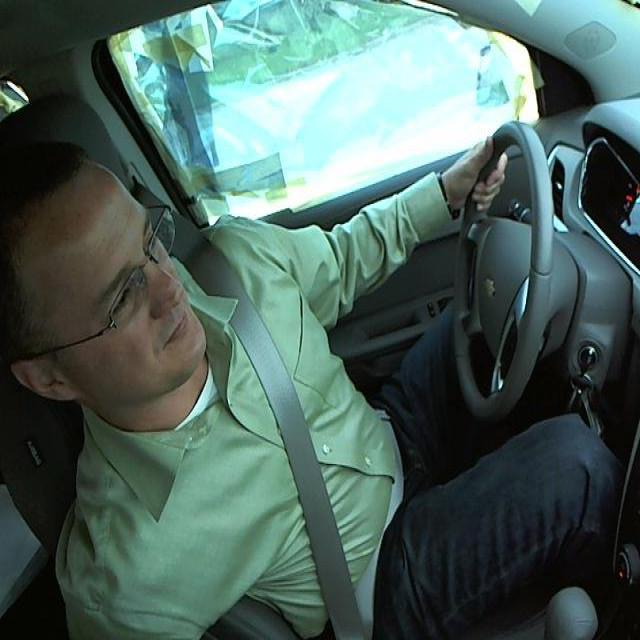seatbelt: (229, 307, 402, 637)
